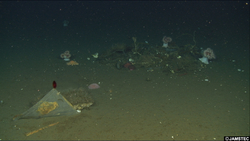fishing net: (93, 37, 217, 73)
